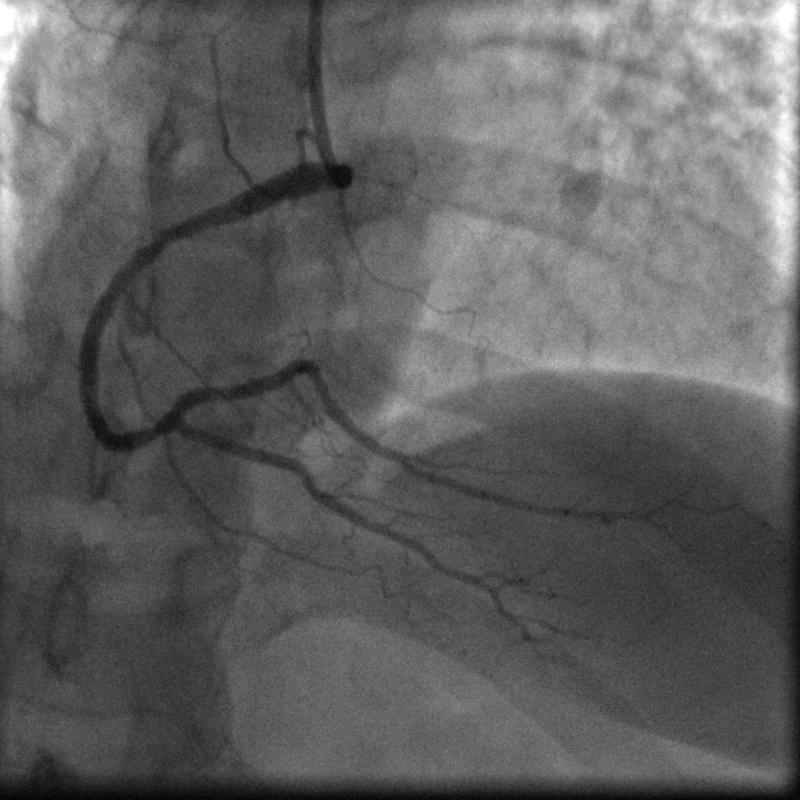Stenosis: (129, 418, 174, 444)
